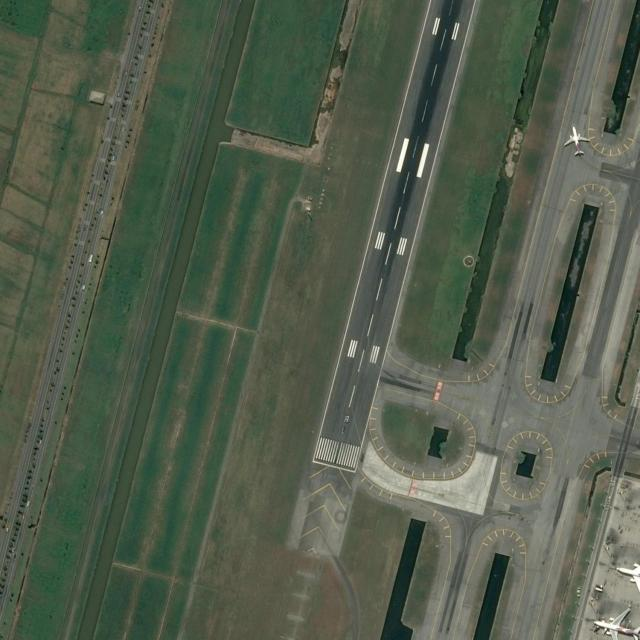Aircraft: (591, 607, 640, 640), (614, 553, 640, 603), (562, 125, 596, 159)
